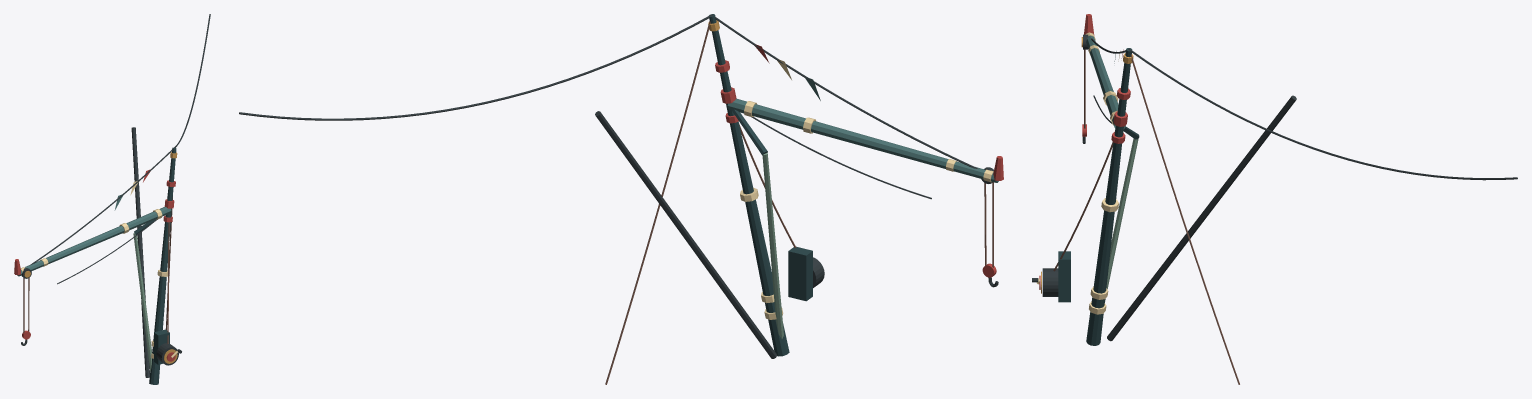
Rendered from FreightDerrick.glb.
3 renders of one model, left to right at view 1: azimuth 30°, elevation 25°; view 2: azimuth 150°, elevation 25°; view 3: azimuth 270°, elevation 25°, orthographic. The views are drawn at different scales.
Visible parts, largest first — view 1: FreightDerrick; view 2: FreightDerrick; view 3: FreightDerrick.
Boxes of the visible parts, x1,y1,x2,y2 form: FreightDerrick: (14,14,210,384); FreightDerrick: (239,14,1003,384); FreightDerrick: (1032,14,1517,384).
Bounding box in the file's own units: 8.81 × 5.37 × 7.45.
